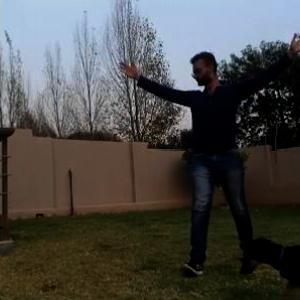takeoff: (67, 7, 300, 290)
